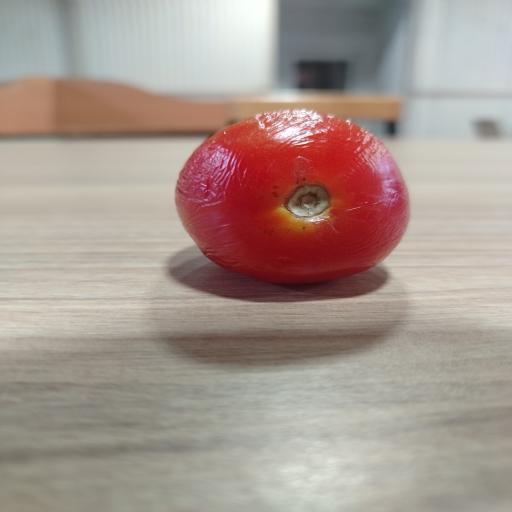spoiled: (176, 110, 409, 283)
